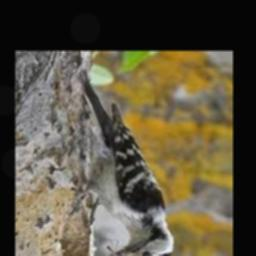Woodpecker: (82, 77, 174, 256)
